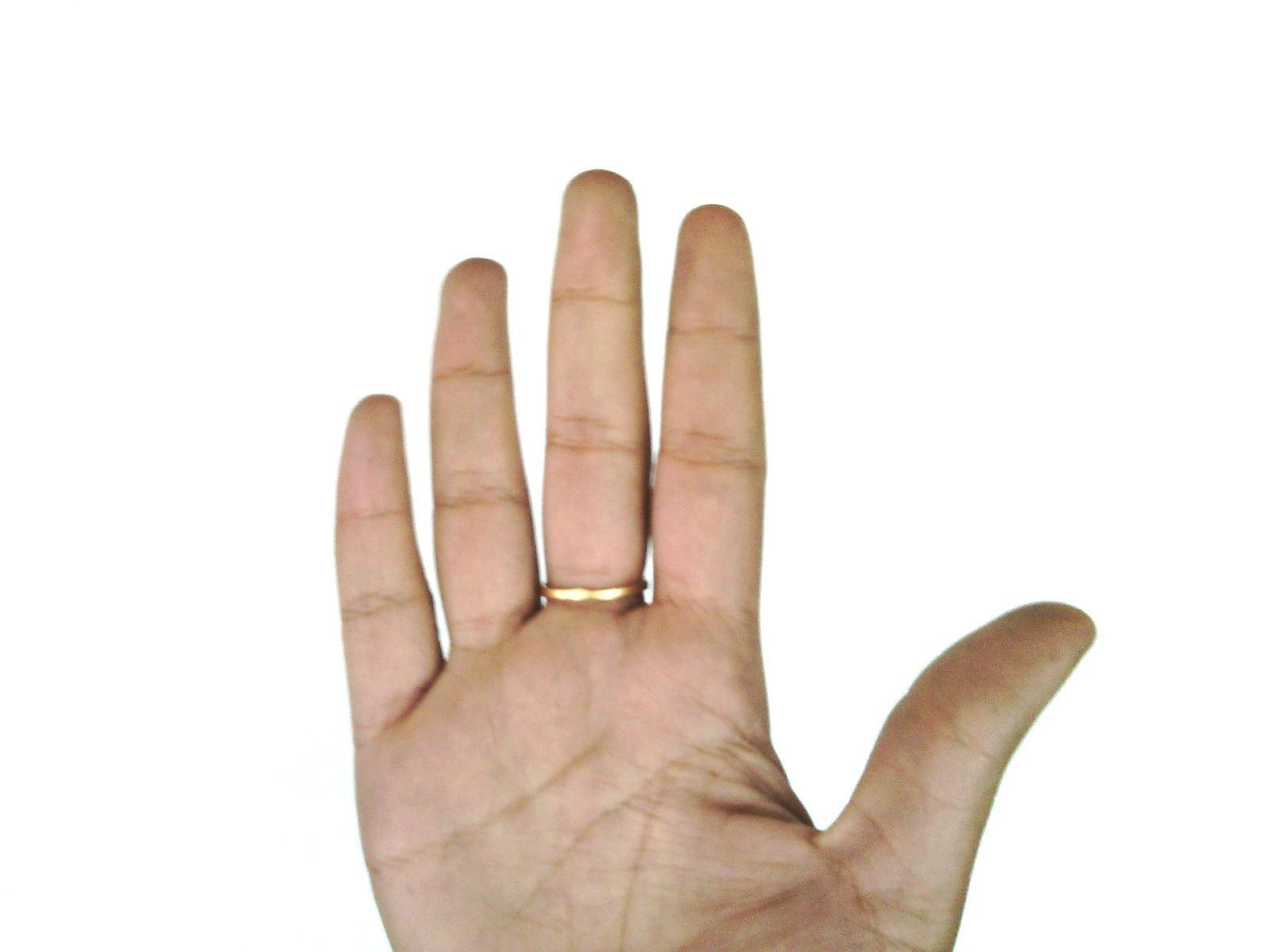open_palm: (329, 167, 1098, 951)
